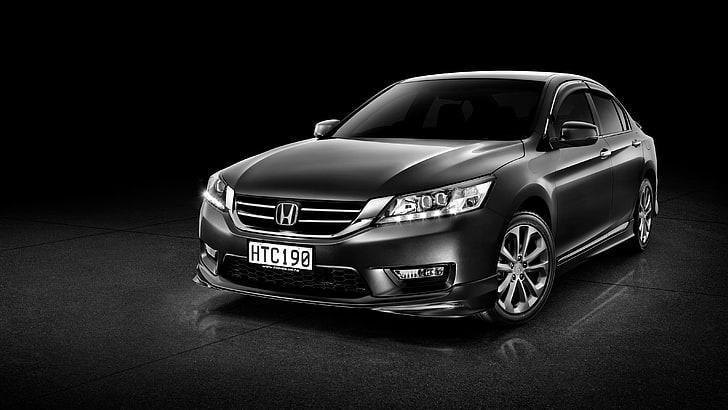Car hood: (214, 136, 531, 202)
Fender - -F-L-: (485, 137, 554, 240)
Front bumper: (187, 196, 499, 322)
Headlight - -L-: (372, 177, 495, 226)
Headlight - -R-: (202, 170, 231, 213)
Passenger-s door - -F-L-: (545, 65, 624, 271)
Passenger-s door - -R-L-: (584, 73, 651, 262)
Side bumper - -L-: (546, 223, 637, 295)
Side mirror - -R-: (547, 122, 599, 153), (312, 116, 341, 141)
